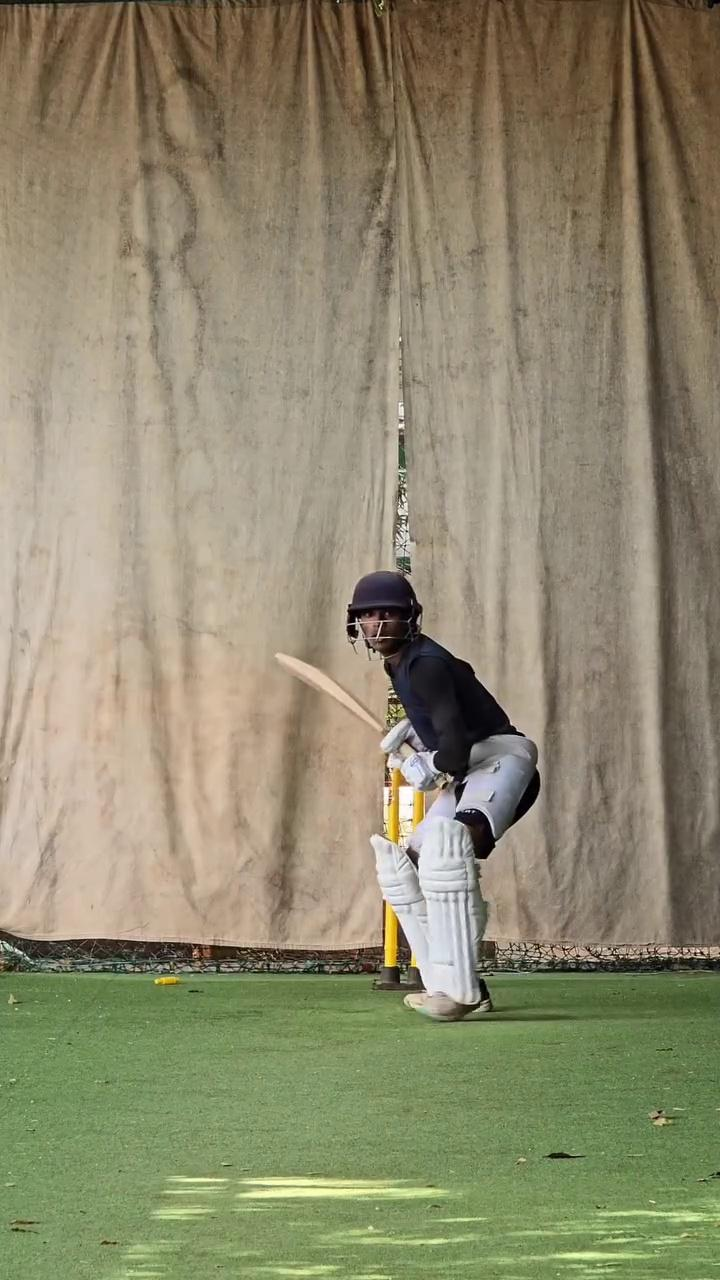bat: (273, 638, 391, 743)
